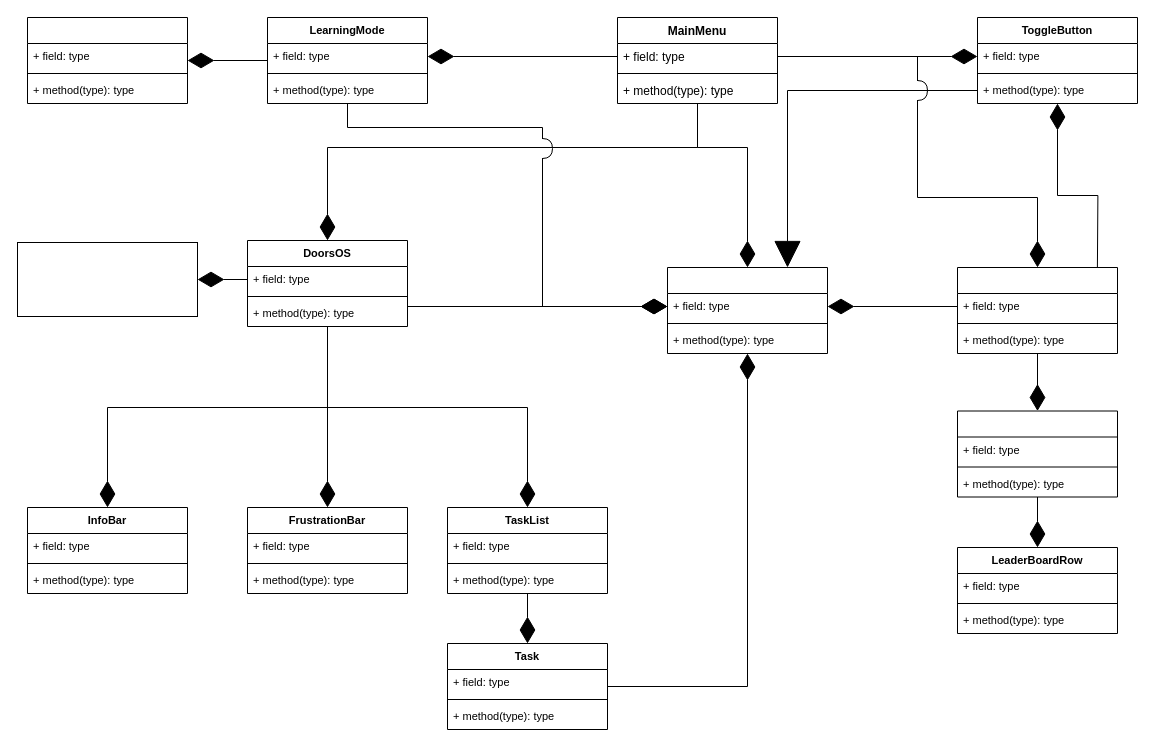
Image size: 1155x750. Some labels were removed from this diagram. Each missing label, with the box of its shape:
Any subclass of minigames.MiniGame (See minigames class diagram for details): (16, 242, 198, 316)
Button: (666, 266, 828, 354)
Image: (26, 16, 188, 104)
LeaderBoard: (956, 410, 1118, 497)
LeaderBoardScreen: (956, 266, 1118, 354)
